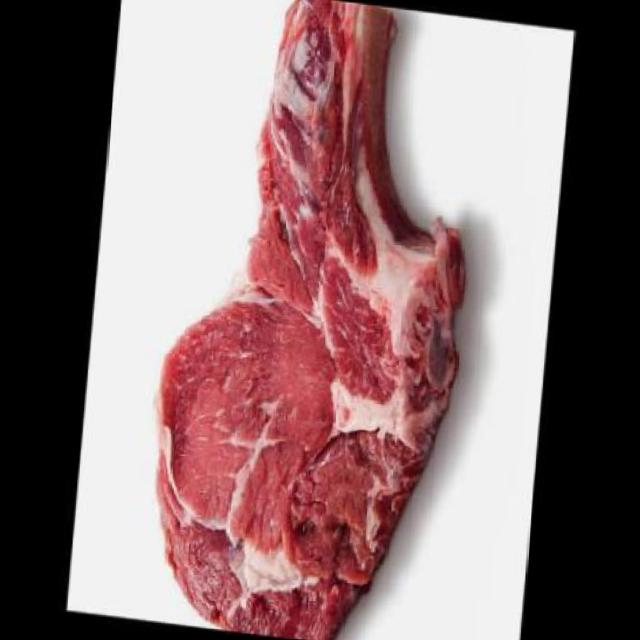beaf: (133, 0, 495, 640)
